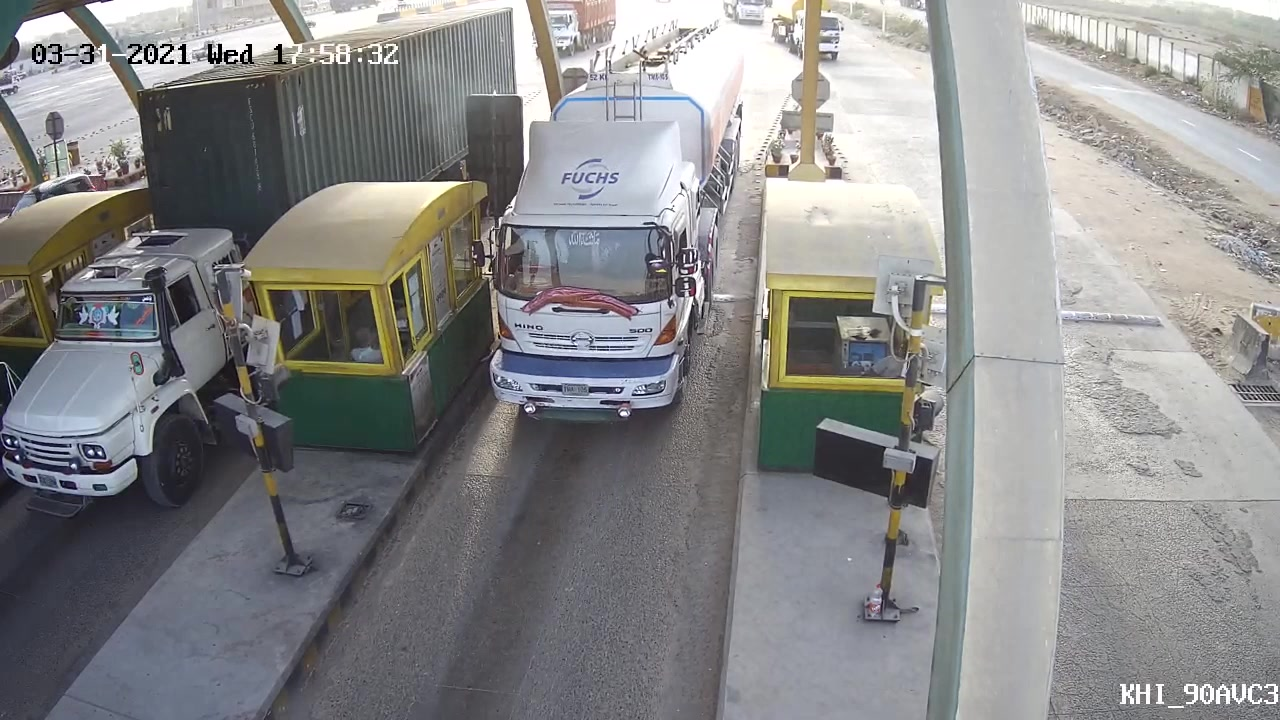F6: (467, 22, 755, 427)
